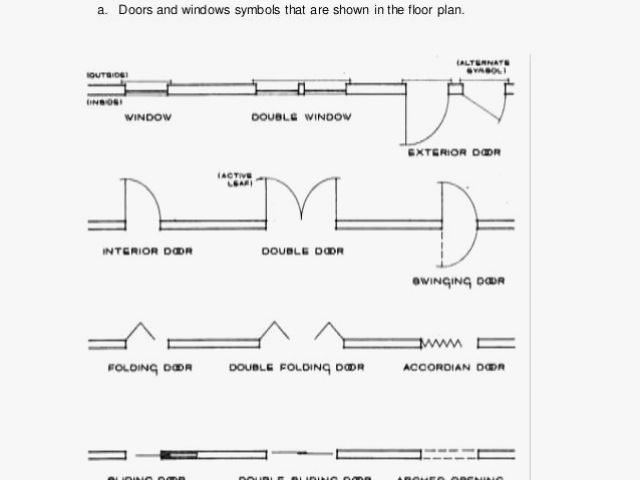door: (256, 165, 344, 241), (431, 174, 484, 274), (107, 161, 170, 241), (109, 311, 176, 358), (400, 320, 470, 359), (239, 310, 297, 355), (305, 306, 351, 358)
window: (393, 75, 521, 149), (245, 66, 359, 105), (120, 79, 181, 100)
